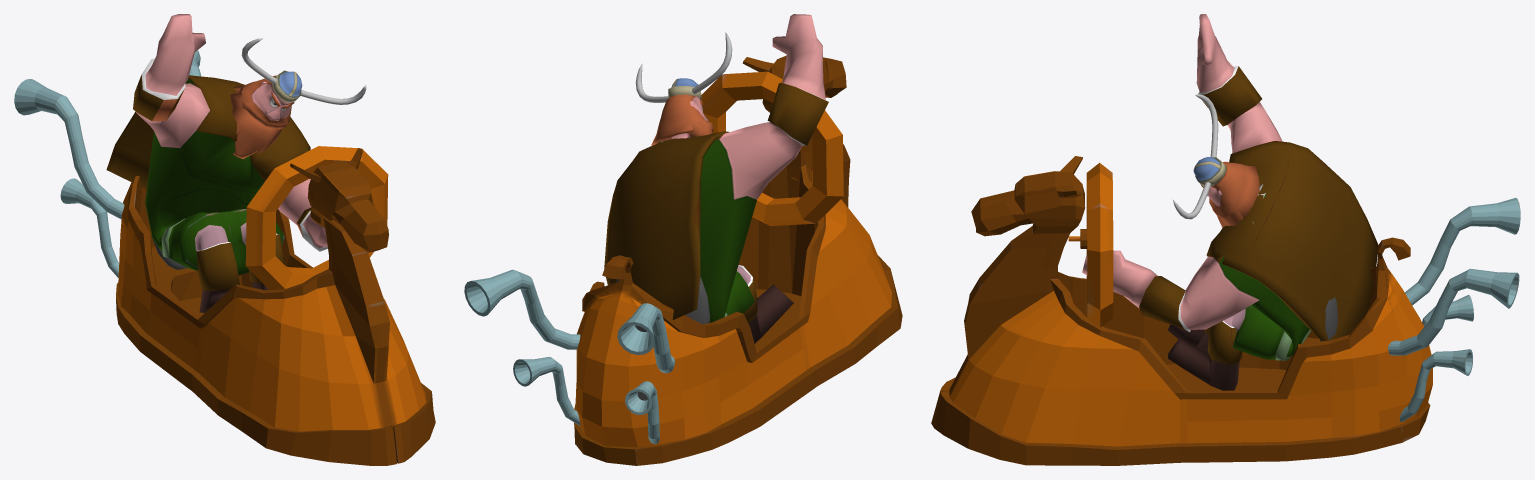
Rendered from vikingoKartHabilidad_000504.obj.
3 views of the same model, side by side, from view 1: azimuth 30°, elevation 25°; view 2: azimuth 150°, elevation 25°; view 3: azimuth 270°, elevation 25° (orthographic). The views are drawn at different scales.
Visible parts, largest first — view 1: kartVikingo, Vikingo; view 2: kartVikingo, Vikingo; view 3: kartVikingo, Vikingo.
Boxes of the visible parts, bbox=[...] form: kartVikingo: bbox=[14, 50, 435, 465]; Vikingo: bbox=[106, 14, 366, 312]; kartVikingo: bbox=[464, 56, 902, 465]; Vikingo: bbox=[604, 14, 828, 343]; kartVikingo: bbox=[931, 156, 1520, 465]; Vikingo: bbox=[1082, 14, 1378, 390].
Size of the model in its own units: 4.11 by 7.12 by 10.31.
